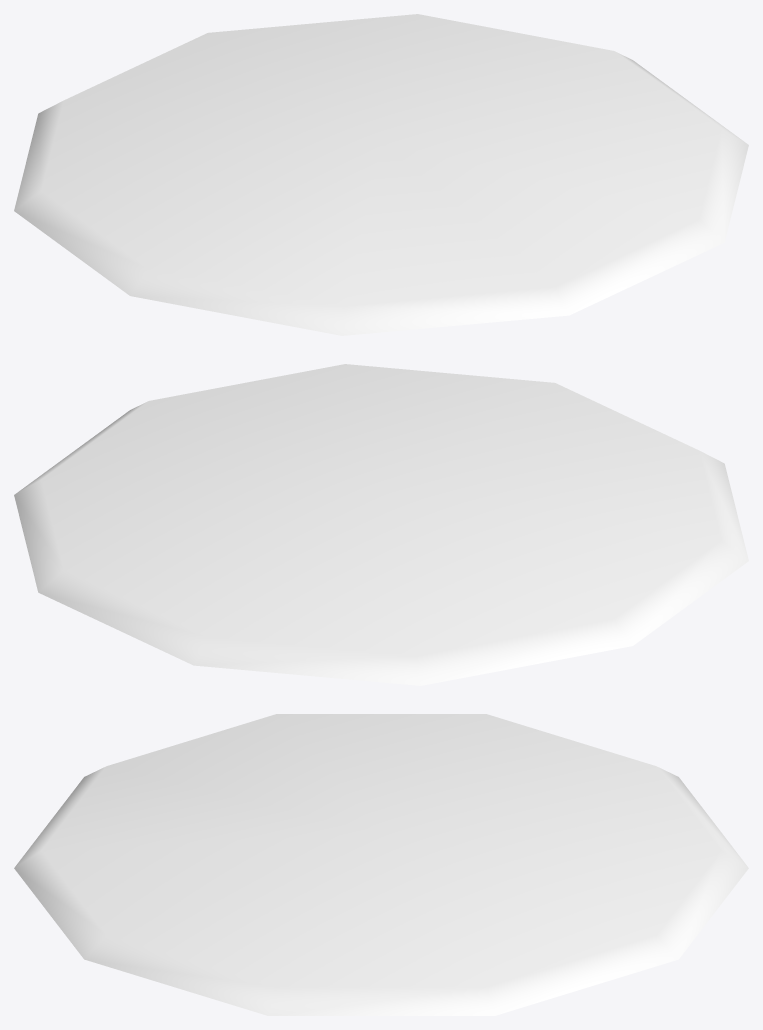
3 renders of one model, top to bottom at view 1: azimuth 30°, elevation 25°; view 2: azimuth 150°, elevation 25°; view 3: azimuth 270°, elevation 25°, orthographic. The views are drawn at different scales.
Visible parts, largest first — view 1: Object73; view 2: Object73; view 3: Object73.
Part boxes in pixels (box(x1,y1,x2,y2)): Object73: box(14, 14, 748, 335); Object73: box(14, 364, 748, 685); Object73: box(14, 714, 748, 1015).
Size of the model in its own units: 6255 by 348 by 6577.
